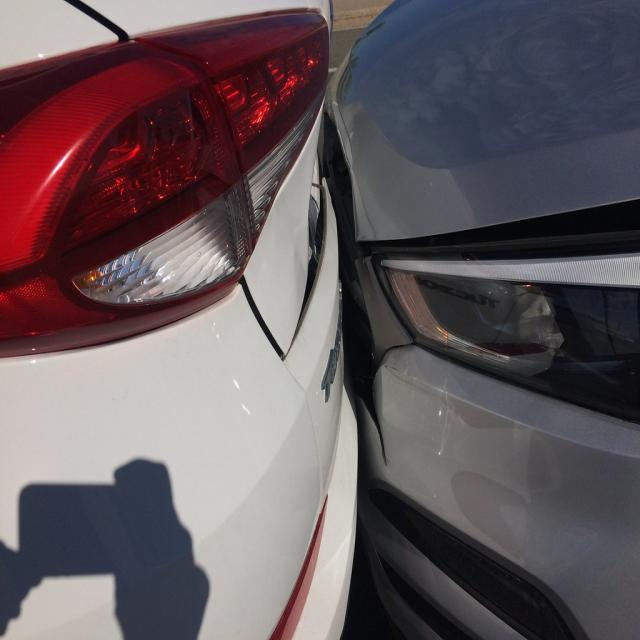crush: (326, 90, 640, 251), (276, 110, 331, 341)
